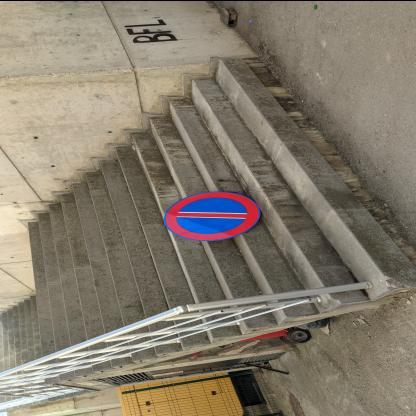No Waiting: (164, 191, 261, 241)
